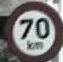Speed limit: (5, 6, 57, 54)
